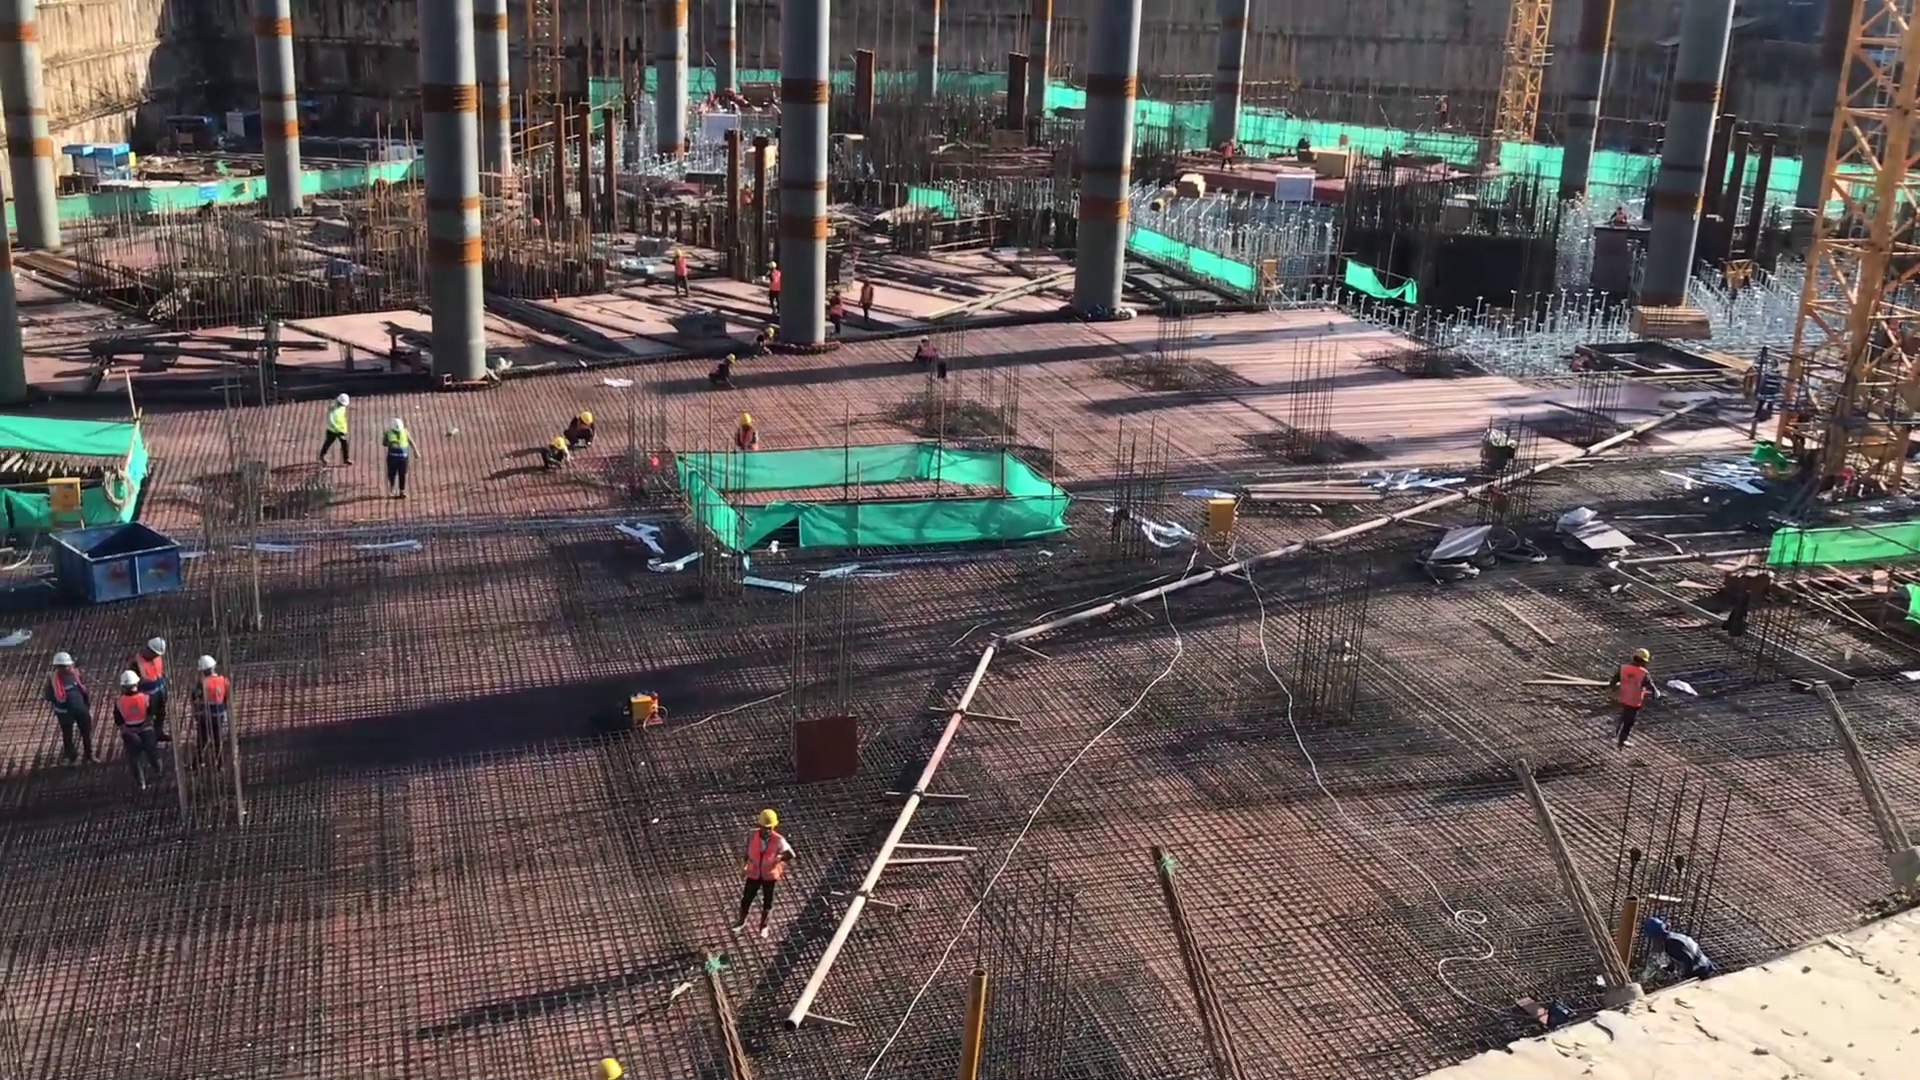ebox: (1193, 490, 1250, 586), (41, 471, 88, 528), (617, 693, 676, 731), (1255, 250, 1284, 309)
helmet: (587, 1056, 631, 1080), (754, 805, 782, 831), (1641, 914, 1665, 941), (115, 669, 145, 688), (144, 634, 168, 660), (385, 413, 408, 436), (50, 648, 75, 667), (194, 653, 219, 673), (1630, 645, 1651, 666), (731, 410, 756, 427), (332, 391, 354, 412), (551, 433, 569, 456), (577, 409, 596, 429), (726, 349, 738, 367), (763, 324, 775, 340), (670, 248, 685, 260), (917, 333, 931, 345), (766, 261, 779, 272), (863, 275, 873, 287), (830, 283, 842, 293)
hopper: (43, 514, 186, 612)
person: (728, 798, 803, 935), (33, 648, 110, 775), (108, 667, 170, 797), (1626, 910, 1725, 986), (1604, 637, 1664, 748), (183, 649, 238, 772), (373, 412, 428, 508), (130, 631, 175, 735), (311, 384, 361, 471), (560, 402, 603, 456), (704, 346, 744, 397), (534, 432, 575, 475), (727, 409, 764, 454), (668, 243, 695, 305), (760, 258, 785, 319), (825, 280, 849, 341), (909, 331, 943, 371), (748, 324, 775, 364), (856, 274, 877, 326)
vest: (43, 666, 95, 725), (193, 674, 228, 734), (743, 829, 783, 882), (111, 690, 151, 738), (1665, 932, 1712, 975), (1613, 662, 1647, 711), (138, 655, 167, 700), (325, 401, 351, 440), (386, 429, 414, 463), (735, 422, 759, 454), (766, 271, 783, 294), (673, 256, 689, 280), (830, 294, 844, 319), (858, 288, 873, 313), (917, 343, 938, 360)
